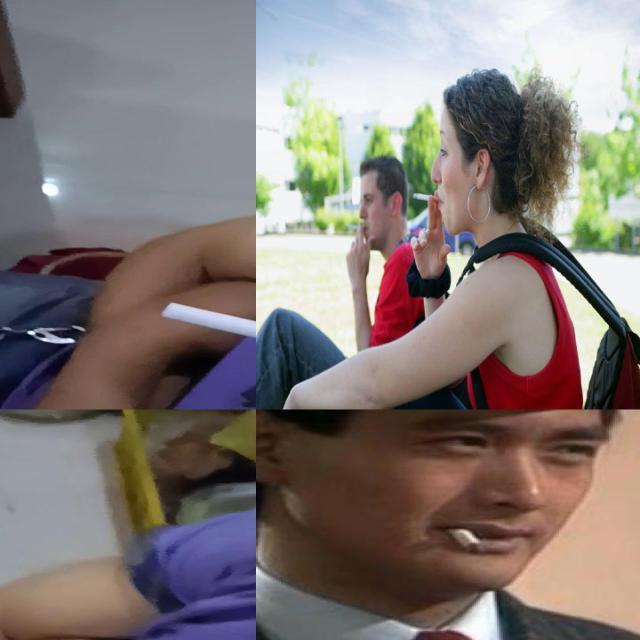smoking: (160, 300, 255, 372), (436, 524, 497, 556), (412, 186, 442, 216)
